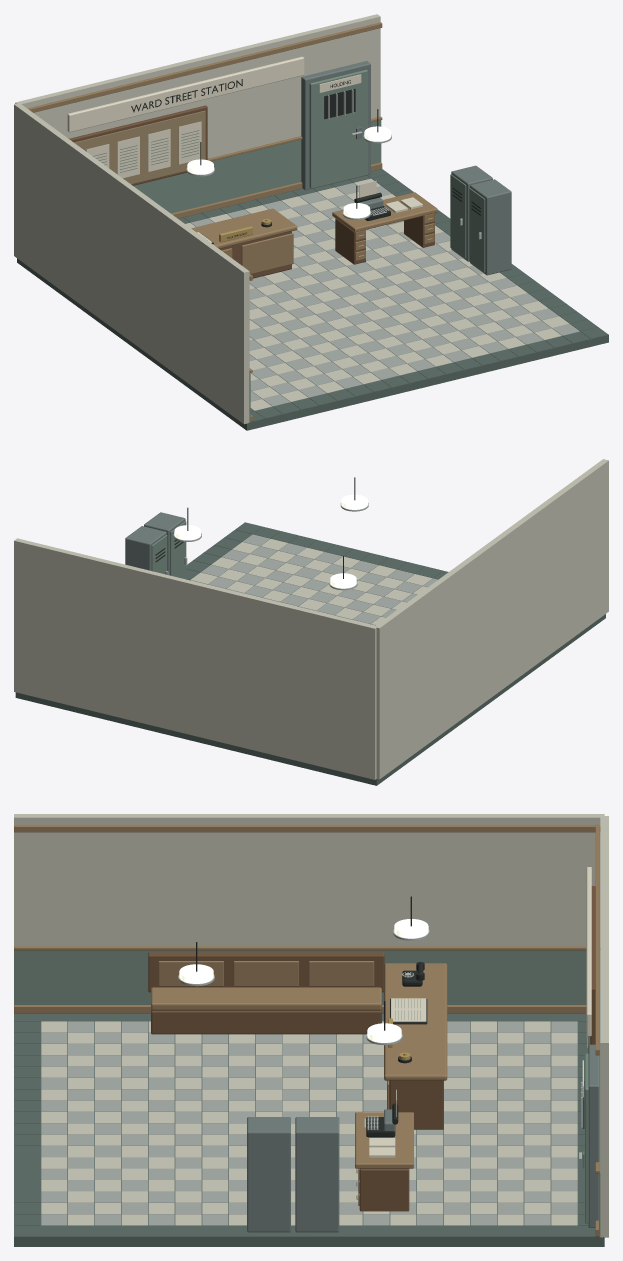
The model's file is interior-precinct.glb.
3 views of the same model, one above another, from view 1: azimuth 30°, elevation 25°; view 2: azimuth 150°, elevation 25°; view 3: azimuth 270°, elevation 25° (orthographic). The views are drawn at different scales.
Visible parts, largest first — view 1: side wall, terrazzo tile.024, terrazzo tile.023, rear wall, rear painted dado, station foundation, holding sign, booking counter ledge, rear rail, typewriter body, reports board cork, register ruled line (+7 smaller); view 2: rear wall, side wall, station foundation, terrazzo tile.023, terrazzo tile.024, typewriter body, register ruled line, opal ceiling lamp; view 3: side wall, terrazzo tile.023, terrazzo tile.024, station foundation, booking counter ledge, side painted dado, booking counter, typewriter body, side rail, rear wall, holding door frame, opal ceiling lamp (+7 smaller).
Boxes of the visible parts, <box> form: side wall: <box>14,103,249,424</box>; terrazzo tile.024: <box>191,183,579,406</box>; terrazzo tile.023: <box>185,178,569,410</box>; rear wall: <box>15,14,380,158</box>; rear painted dado: <box>93,69,381,213</box>; station foundation: <box>17,169,608,430</box>; holding sign: <box>67,56,361,178</box>; booking counter ledge: <box>191,192,437,274</box>; rear rail: <box>27,22,382,218</box>; typewriter body: <box>358,165,511,275</box>; reports board cork: <box>74,110,205,183</box>; register ruled line: <box>207,174,485,272</box>; rear wall: <box>14,538,377,779</box>; side wall: <box>375,459,608,779</box>; station foundation: <box>15,522,605,785</box>; terrazzo tile.023: <box>190,539,432,625</box>; terrazzo tile.024: <box>190,534,437,625</box>; typewriter body: <box>125,512,185,575</box>; register ruled line: <box>151,521,186,579</box>; opal ceiling lamp: <box>174,494,367,588</box>; side wall: <box>14,814,604,946</box>; terrazzo tile.023: <box>41,1021,577,1225</box>; terrazzo tile.024: <box>41,1021,577,1225</box>; station foundation: <box>14,1013,604,1246</box>; booking counter ledge: <box>151,961,447,1205</box>; side painted dado: <box>14,950,586,1004</box>; booking counter: <box>148,952,443,1211</box>; typewriter body: <box>247,1109,395,1232</box>; side rail: <box>14,825,600,1013</box>; rear wall: <box>600,816,608,1237</box>; holding door frame: <box>582,1044,599,1227</box>; opal ceiling lamp: <box>179,919,428,1042</box>.
Bounding box in the file's own units: 10.08 × 4.19 × 11.08.
